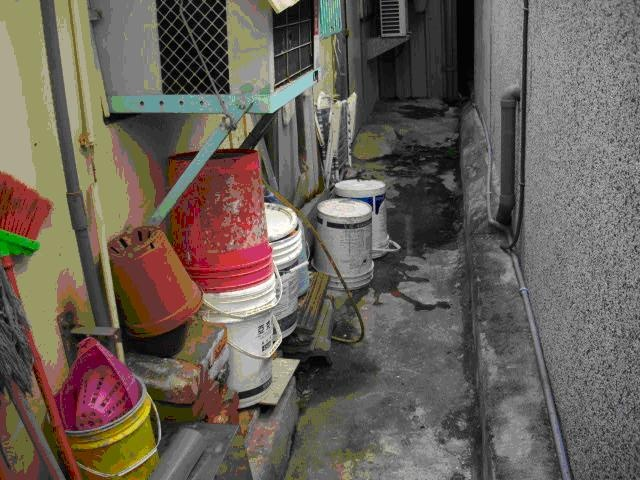bowl: (106, 225, 202, 337)
bucket: (168, 146, 273, 291), (202, 275, 276, 408), (65, 377, 160, 480), (314, 198, 374, 291), (334, 177, 390, 258)
plate: (264, 201, 298, 241)
